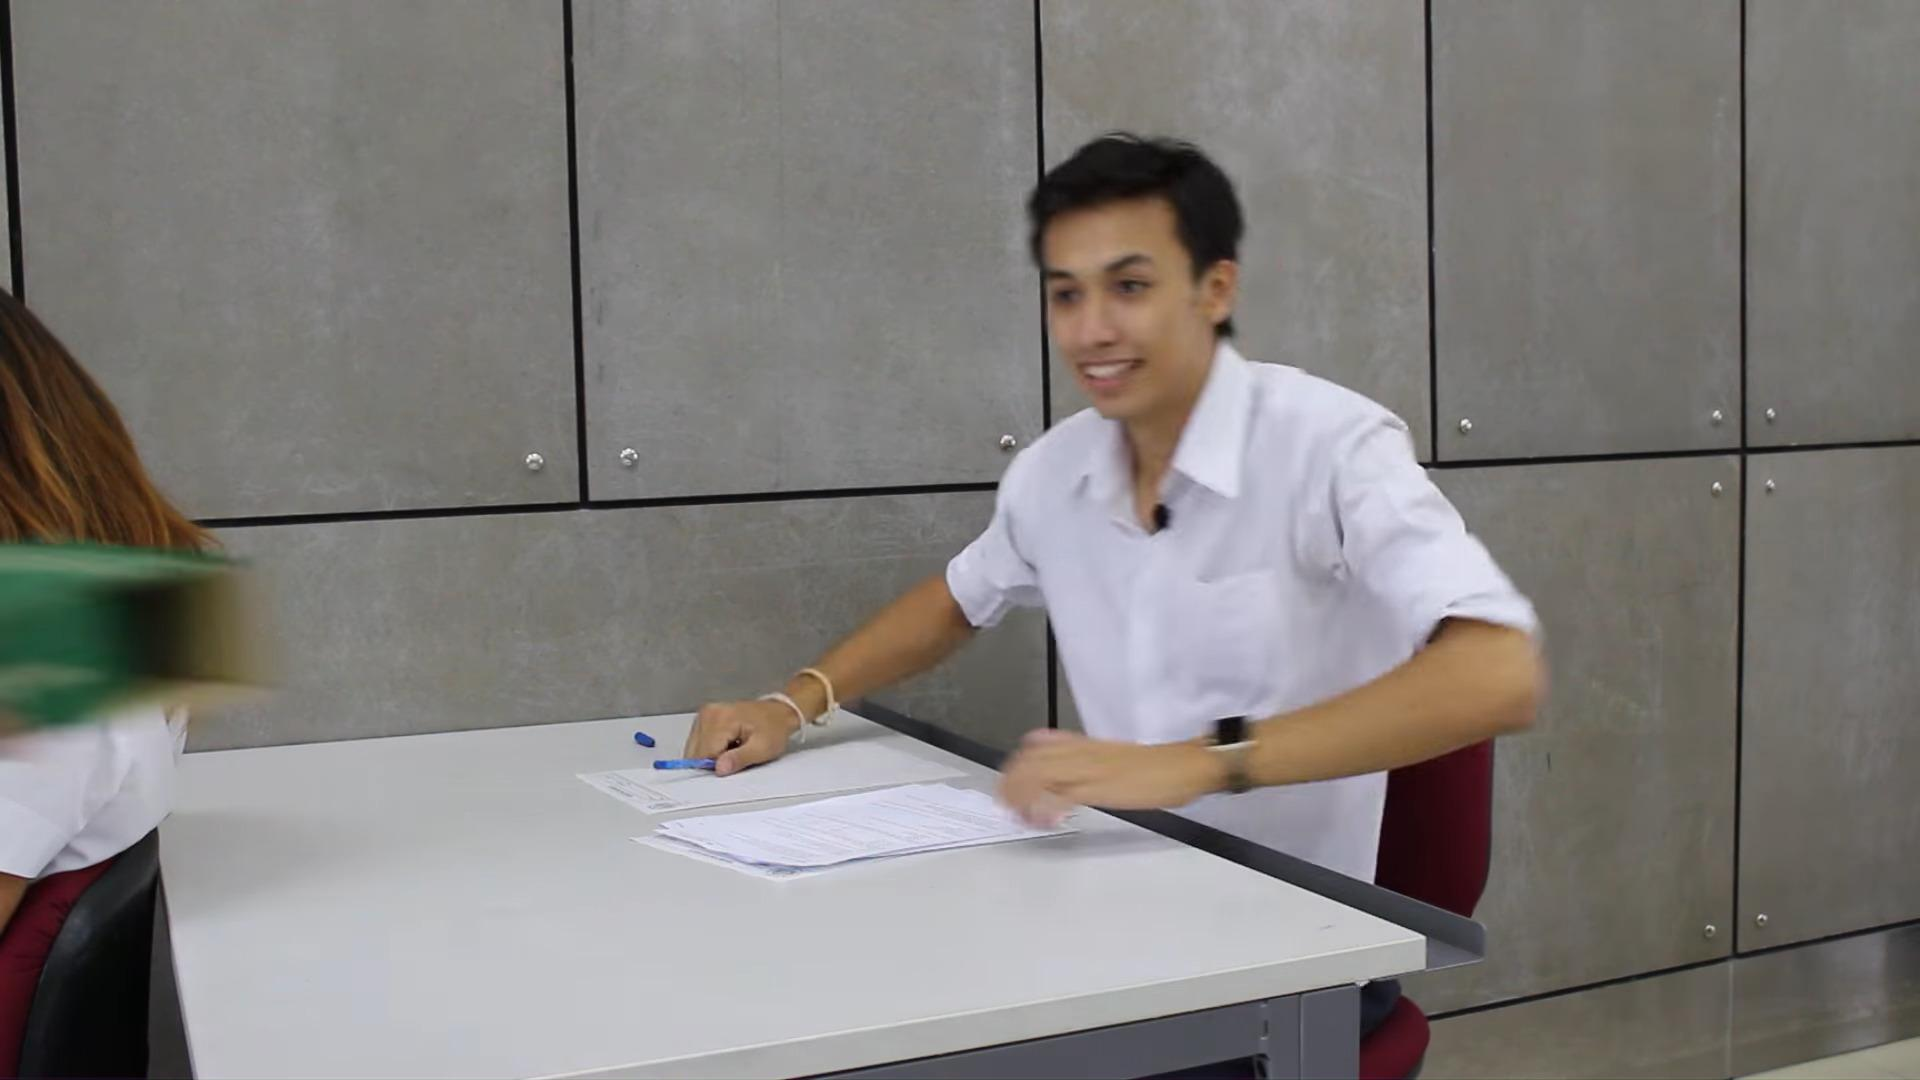cheating: (550, 123, 1585, 924)
